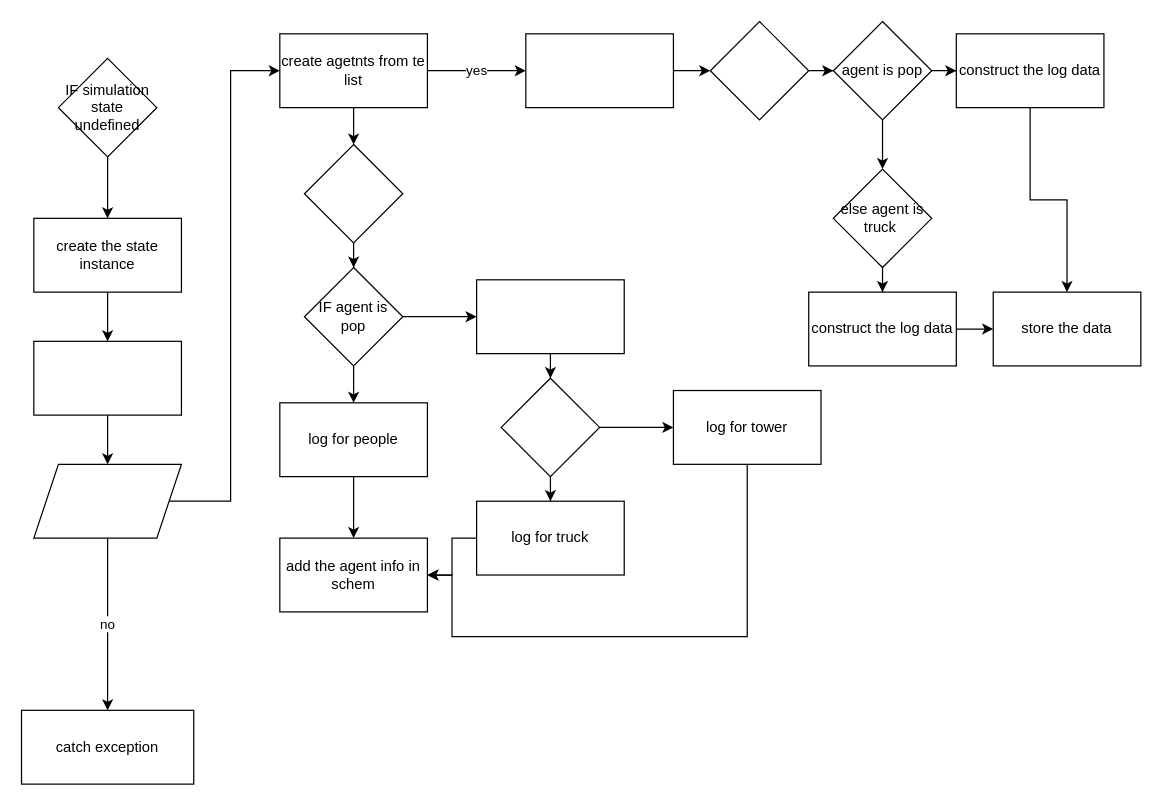
Image size: 1162x806. Some labels were removed from this diagram. The shapes that lost their labels are listed below. From the top down, each one's centre as x and y in pixels, then its label:
(599,70): set populate done
(759,70): created agents
(353,193): for all agents
(549,316): get type
(107,377): New promise status pending
(550,427): If agent is truck
(107,500): try
